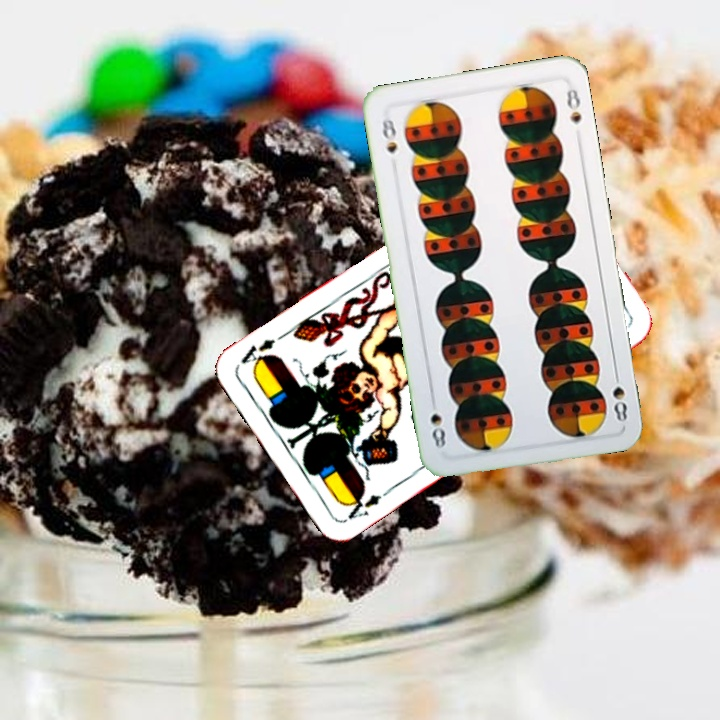EA: (339, 488, 384, 522)
S8: (608, 365, 630, 425), (378, 110, 400, 156)
